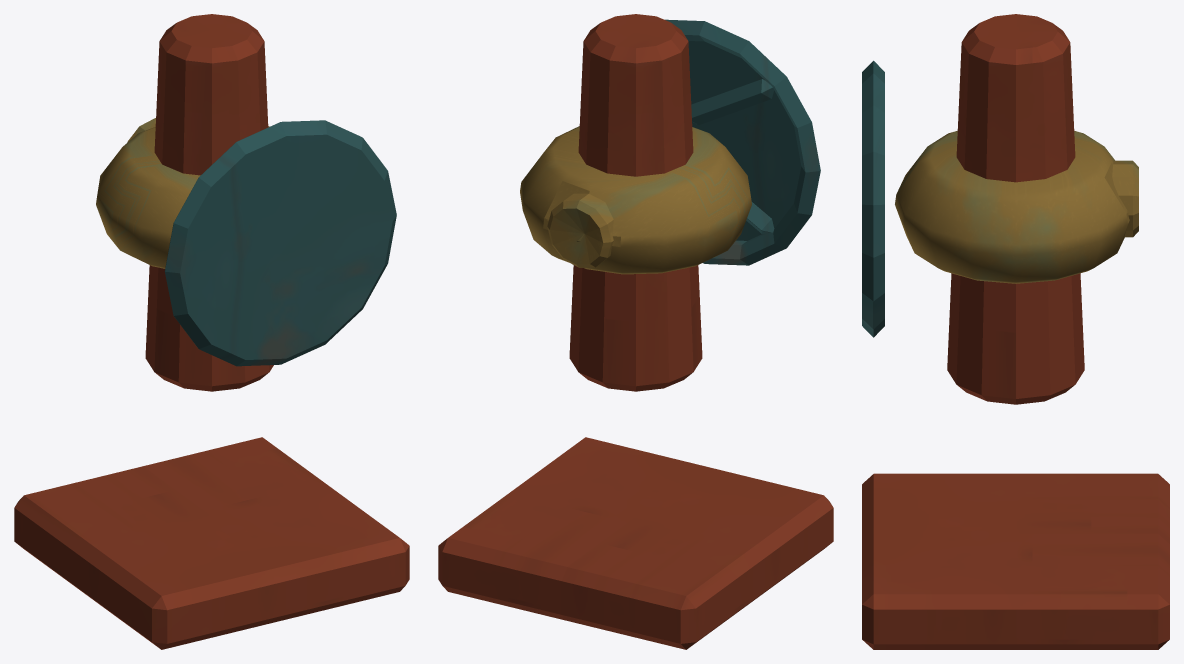
File: WK_PROP_VALVE_A_01.glb
3 views of the same model, side by side, from view 1: azimuth 30°, elevation 25°; view 2: azimuth 150°, elevation 25°; view 3: azimuth 270°, elevation 25° (orthographic). The views are drawn at different scales.
Parts seen in each view (by area): view 1: WK_PROP_VALVE_A_01; view 2: WK_PROP_VALVE_A_01; view 3: WK_PROP_VALVE_A_01.
Boxes of the visible parts, box(x1,y1,x2,y2) form: WK_PROP_VALVE_A_01: box(14, 14, 409, 649); WK_PROP_VALVE_A_01: box(438, 14, 833, 649); WK_PROP_VALVE_A_01: box(862, 14, 1169, 649).
Bounding box in the file's own units: 0.4 × 0.8 × 0.4.
Materials: 3 (3 with a texture image).
